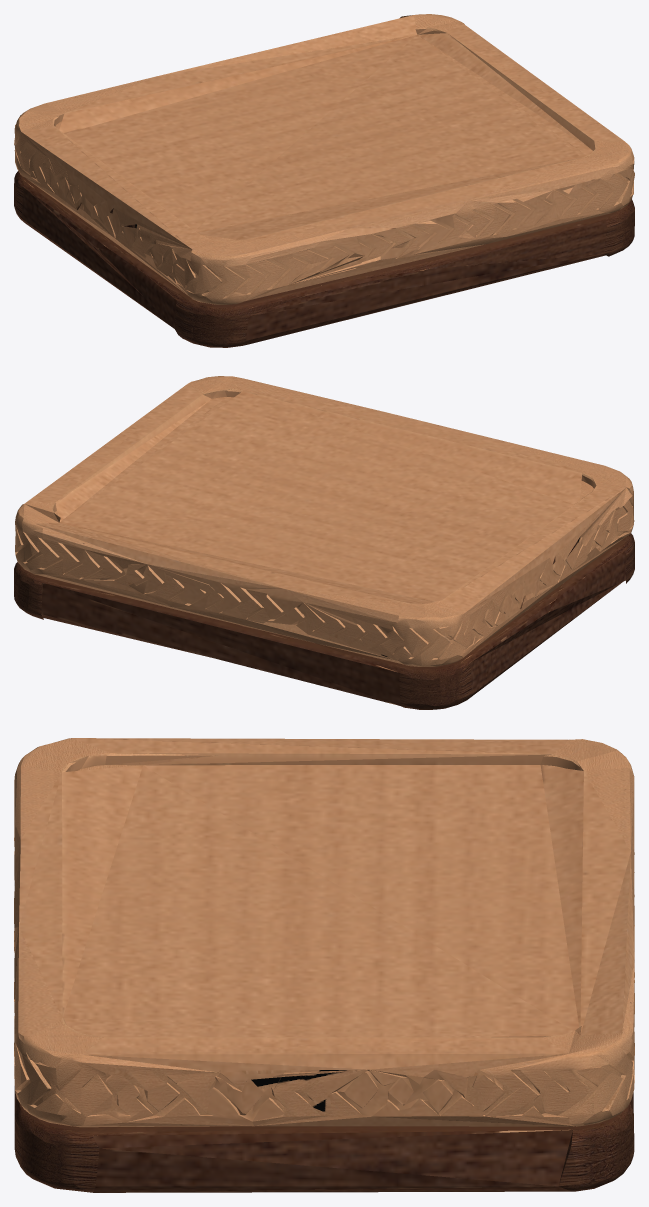
File: display-stand.glb
3 views of the same model, one above another, from view 1: azimuth 30°, elevation 25°; view 2: azimuth 150°, elevation 25°; view 3: azimuth 270°, elevation 25° (orthographic). The views are drawn at different scales.
Visible parts, largest first — view 1: output_unwrapped; view 2: output_unwrapped; view 3: output_unwrapped.
Boxes of the visible parts, left/top/right/bottom form: output_unwrapped: left=14, top=14, right=634, bottom=347; output_unwrapped: left=14, top=376, right=634, bottom=709; output_unwrapped: left=14, top=738, right=634, bottom=1192.
Bounding box in the file's own units: 1.9 × 0.3791 × 1.53.
1 material, 1 textured.
